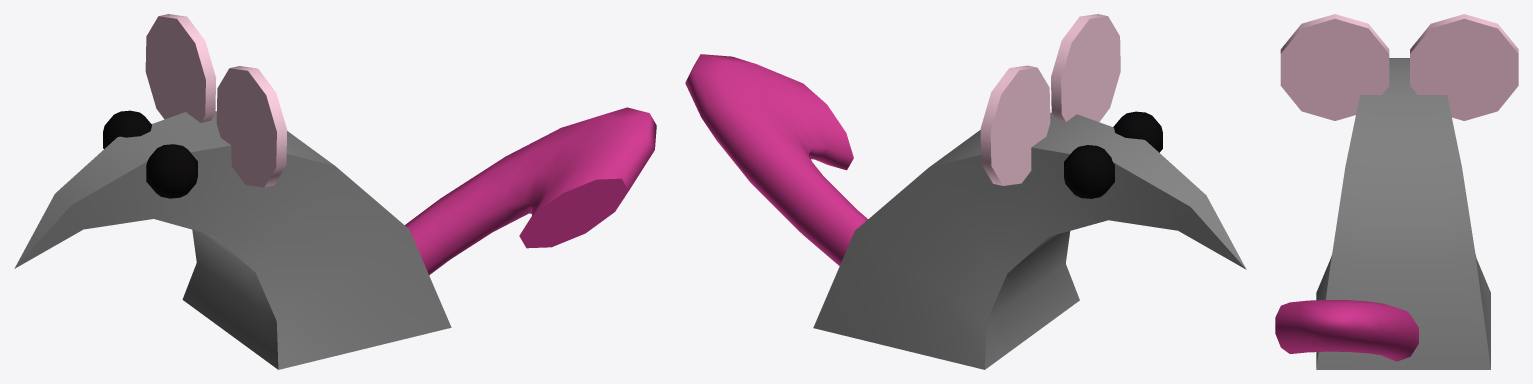
The model's file is Rat.fbx.
3 views of the same model, side by side, from view 1: azimuth 30°, elevation 25°; view 2: azimuth 150°, elevation 25°; view 3: azimuth 270°, elevation 25° (orthographic). The views are drawn at different scales.
Parts seen in each view (by area): view 1: Pyramid001, Cylinder001, Cylinder002, Cylinder003, Sphere005, Sphere006; view 2: Pyramid001, Cylinder001, Cylinder003, Cylinder002, Sphere006, Sphere005; view 3: Pyramid001, Cylinder002, Cylinder003, Cylinder001.
Part boxes in pixels (x1,y1,x2,y2): Pyramid001: (14, 111, 451, 369); Cylinder001: (405, 107, 656, 275); Cylinder002: (216, 66, 287, 187); Cylinder003: (145, 14, 216, 122); Sphere005: (146, 144, 197, 198); Sphere006: (103, 110, 151, 148); Pyramid001: (813, 112, 1246, 369); Cylinder001: (685, 54, 867, 265); Cylinder003: (980, 65, 1050, 185); Cylinder002: (1051, 14, 1120, 121); Sphere006: (1064, 145, 1114, 198); Sphere005: (1113, 111, 1162, 152); Pyramid001: (1316, 58, 1490, 369); Cylinder002: (1280, 14, 1389, 120); Cylinder003: (1410, 14, 1518, 120); Cylinder001: (1275, 300, 1418, 361).
Bounding box in the file's own units: 20.96 × 9.89 × 8.08.
4 materials, 4 textured.
